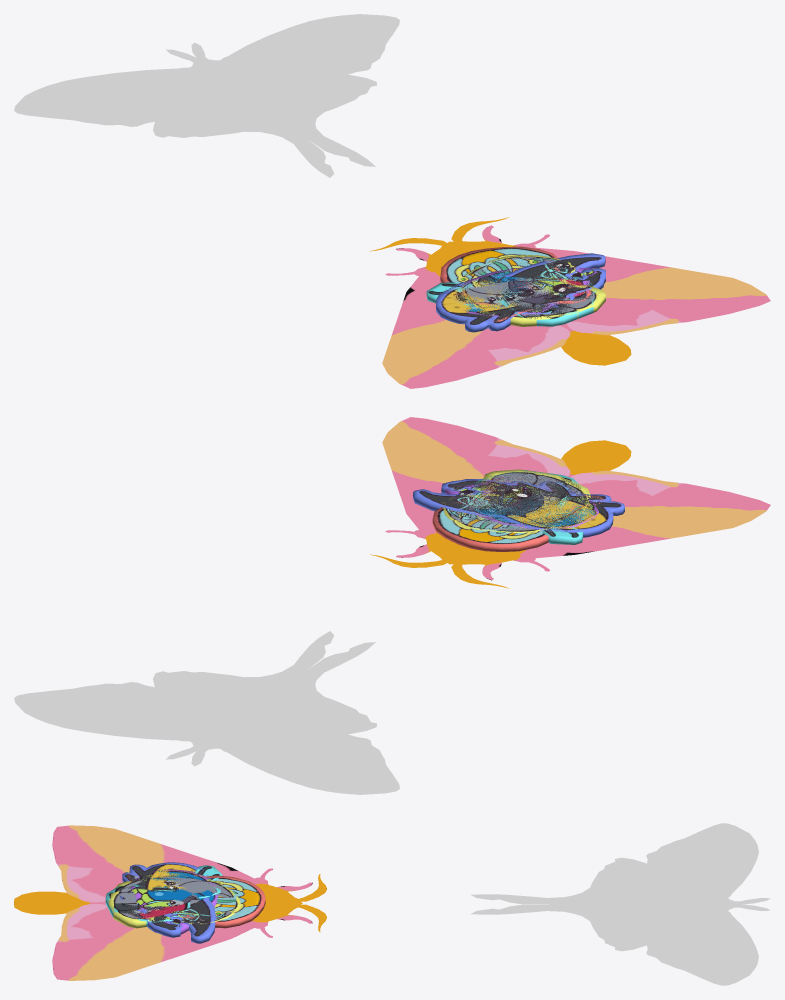
Rendered from rugs_furless.fbx.
3 views of the same model, one above another, from view 1: azimuth 30°, elevation 25°; view 2: azimuth 150°, elevation 25°; view 3: azimuth 270°, elevation 25° (orthographic). The views are drawn at different scales.
Visible parts, largest first — view 1: luna_moth, rosa_moth, sunny_beetle_rug, sunny_spider_rug, sunny_cloporte_rug, sunny_girafe_weevel_rug, sunny_codebug_bug_codebug_rug; view 2: luna_moth, rosa_moth, sunny_beetle_rug, sunny_cloporte_rug, sunny_spider_rug, sunny_codebug_bug_codebug_rug, sunny_girafe_weevel_rug; view 3: luna_moth, rosa_moth, sunny_beetle_rug, sunny_spider_rug, sunny_cloporte_rug, sunny_codebug_bug_codebug_rug, sunny_girafe_weevel_rug.
Part boxes in pixels (box(x1,y1,x2,y2)): luna_moth: box(14, 14, 399, 177); rosa_moth: box(370, 217, 770, 388); sunny_beetle_rug: box(436, 253, 605, 332); sunny_spider_rug: box(440, 246, 591, 321); sunny_cloporte_rug: box(461, 254, 605, 326); sunny_girafe_weevel_rug: box(426, 274, 596, 326); sunny_codebug_bug_codebug_rug: box(451, 267, 597, 316); luna_moth: box(14, 631, 399, 794); rosa_moth: box(370, 417, 770, 588); sunny_beetle_rug: box(413, 479, 624, 537); sunny_cloporte_rug: box(442, 469, 590, 533); sunny_spider_rug: box(432, 477, 604, 551); sunny_codebug_bug_codebug_rug: box(445, 478, 599, 529); sunny_girafe_weevel_rug: box(472, 470, 583, 544); luna_moth: box(471, 823, 770, 985); rosa_moth: box(14, 825, 326, 980); sunny_beetle_rug: box(119, 862, 216, 943); sunny_spider_rug: box(127, 871, 265, 928); sunny_cloporte_rug: box(108, 875, 240, 928); sunny_codebug_bug_codebug_rug: box(130, 869, 218, 934); sunny_girafe_weevel_rug: box(105, 865, 222, 926).
Bounding box in the file's own units: 489 × 9.28 × 965.
